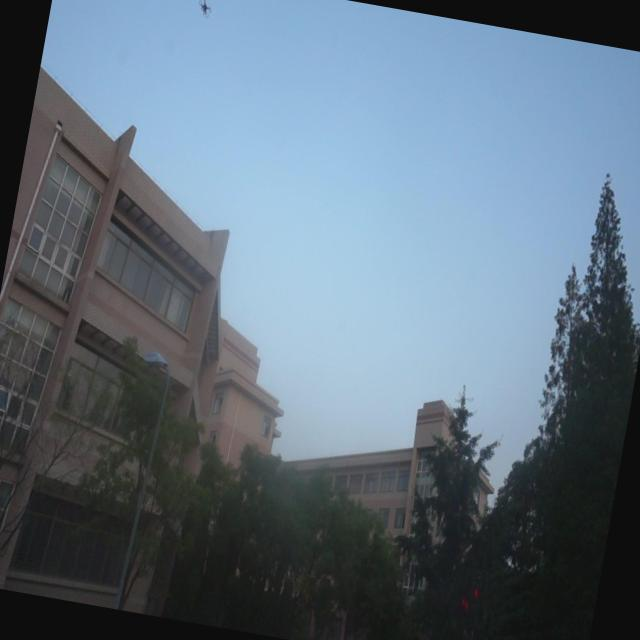drone: (193, 0, 216, 20)
